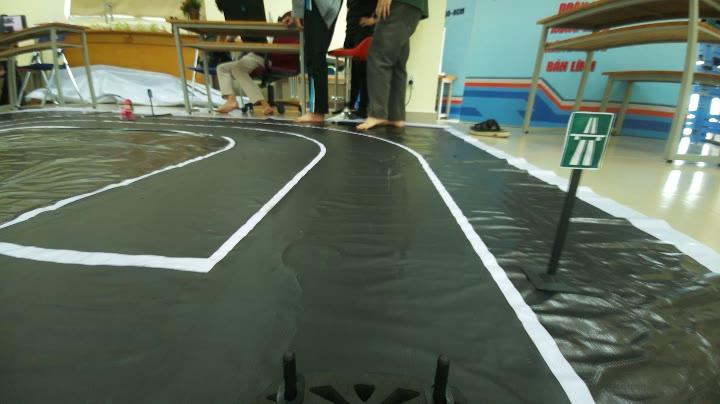highway_entry: (560, 103, 614, 172)
